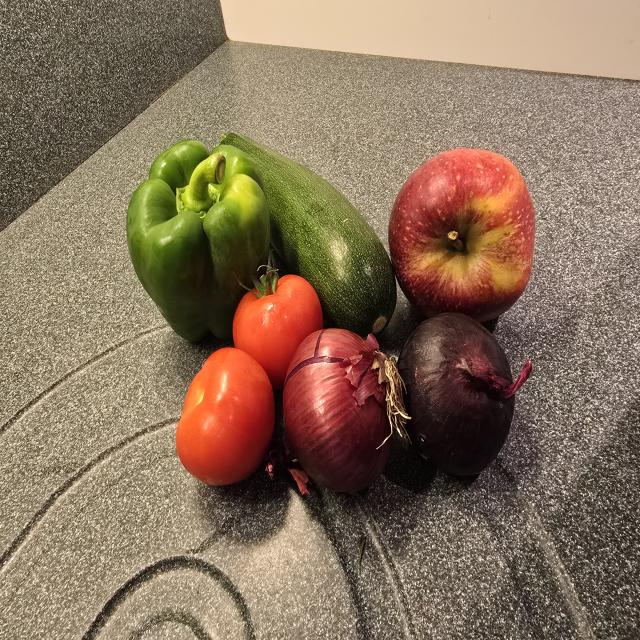Apple: (389, 149, 535, 322)
Bell Pepper: (127, 140, 270, 342)
Courgette: (213, 133, 396, 337)
Onion: (397, 313, 532, 476), (283, 329, 410, 492)
Tomato: (176, 348, 275, 485), (233, 275, 323, 389)
